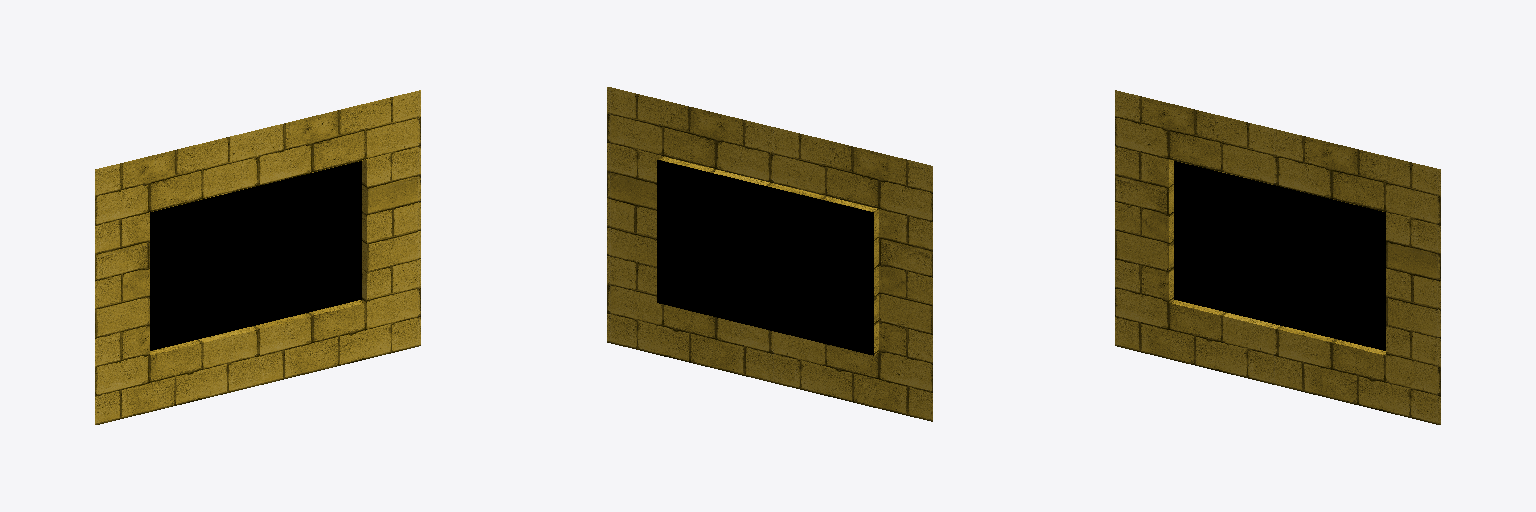
The picture shows the model from 3 angles: view 1: azimuth 30°, elevation 25°; view 2: azimuth 150°, elevation 25°; view 3: azimuth 330°, elevation 25°; orthographic projection.
Parts seen in each view (by area): view 1: brick_lions_hunter_relief; view 2: brick_lions_hunter_relief; view 3: brick_lions_hunter_relief.
Part boxes in pixels (x1,y1,x2,y2): brick_lions_hunter_relief: (95,90,420,424); brick_lions_hunter_relief: (607,87,932,421); brick_lions_hunter_relief: (1115,90,1440,424).
Size of the model in its own units: 400 by 300 by 9.96.
Materials: 2 (1 with a texture image).